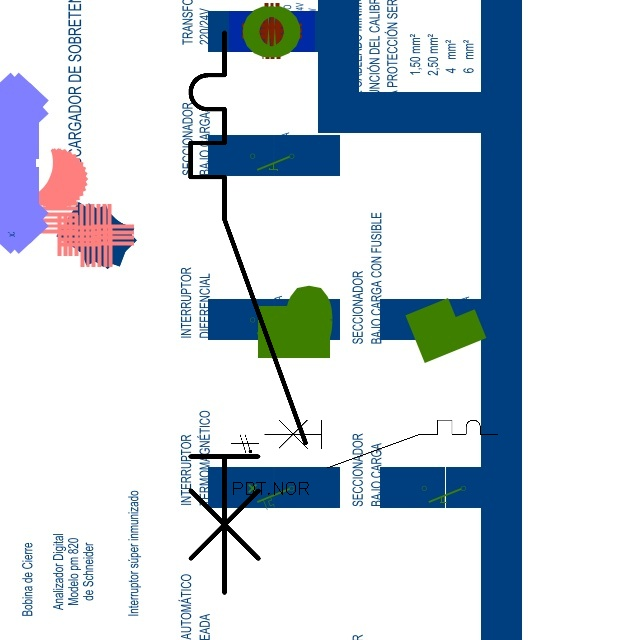interruptor_termomagnetico: (176, 18, 320, 607), (258, 414, 503, 474)
